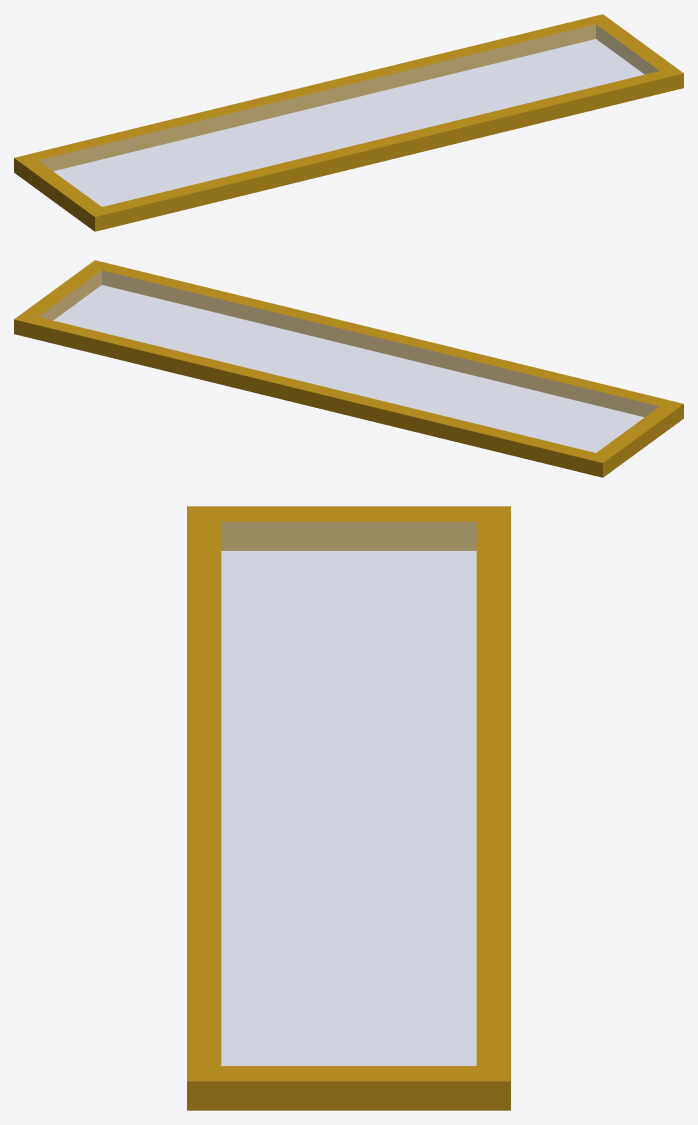
The model's file is long shelf with glass gold.glb.
3 renders of one model, top to bottom at view 1: azimuth 30°, elevation 25°; view 2: azimuth 150°, elevation 25°; view 3: azimuth 270°, elevation 25°, orthographic. The views are drawn at different scales.
Visible parts, largest first — view 1: long table glass gold; view 2: long table glass gold; view 3: long table glass gold.
Boxes of the visible parts, <box> form: long table glass gold: <box>14,14,683,231</box>; long table glass gold: <box>14,260,683,477</box>; long table glass gold: <box>187,506,510,1110</box>.
Bounding box in the file's own units: 4.2 × 0.1 × 1.
